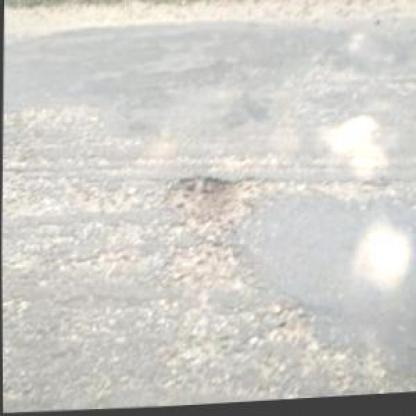pothole: (161, 170, 259, 238)
